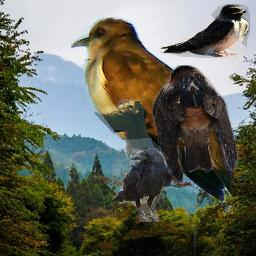Crow: (112, 148, 173, 222)
Cuckoo: (71, 17, 231, 206)
Swallow: (152, 65, 239, 184), (159, 4, 250, 58)
